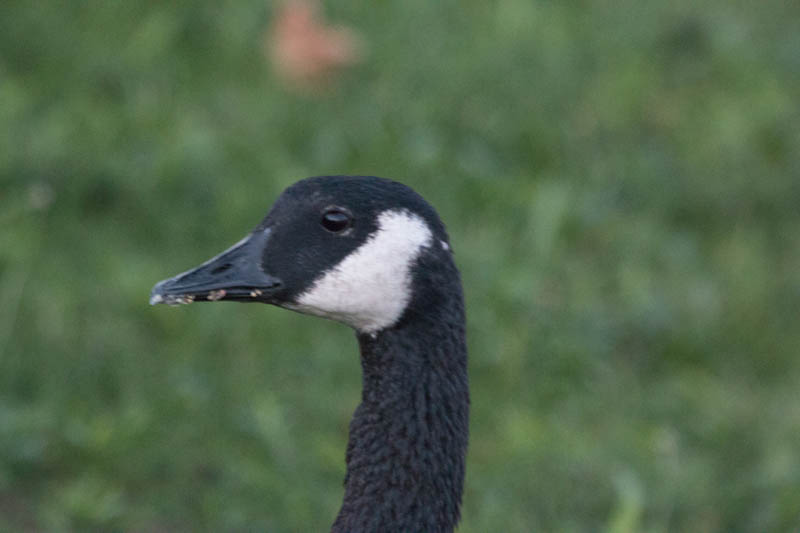goose-head: (150, 175, 466, 341)
